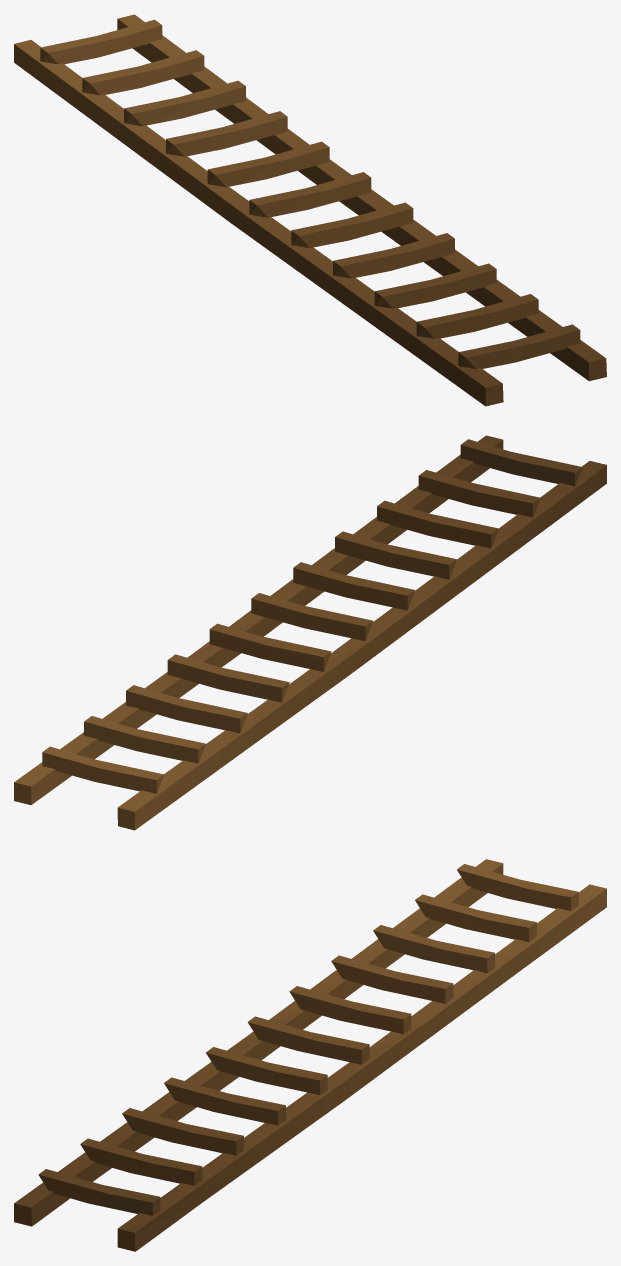
Rendered from Stairs_02.fbx.
3 renders of one model, top to bottom at view 1: azimuth 30°, elevation 25°; view 2: azimuth 150°, elevation 25°; view 3: azimuth 330°, elevation 25°, orthographic.
Visible parts, largest first — view 1: Stairs_02; view 2: Stairs_02; view 3: Stairs_02.
Part boxes in pixels (x1=…): Stairs_02: x1=14, y1=14, x2=606, y2=406; Stairs_02: x1=14, y1=435, x2=606, y2=830; Stairs_02: x1=14, y1=859, x2=606, y2=1251.
Size of the model in its own units: 51.88 by 14.4 by 349.
